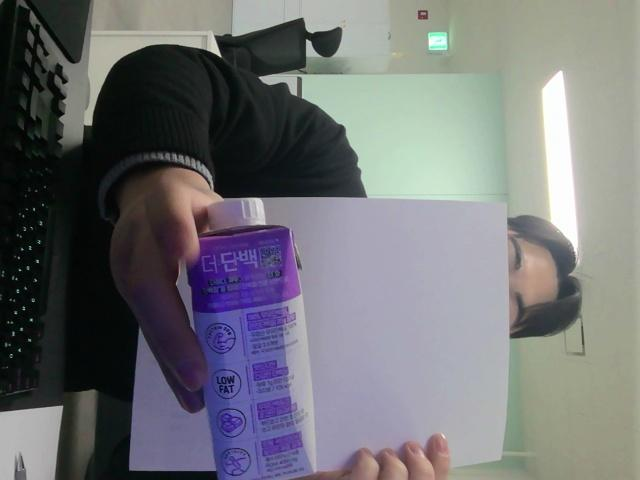milk: (188, 199, 316, 479)
